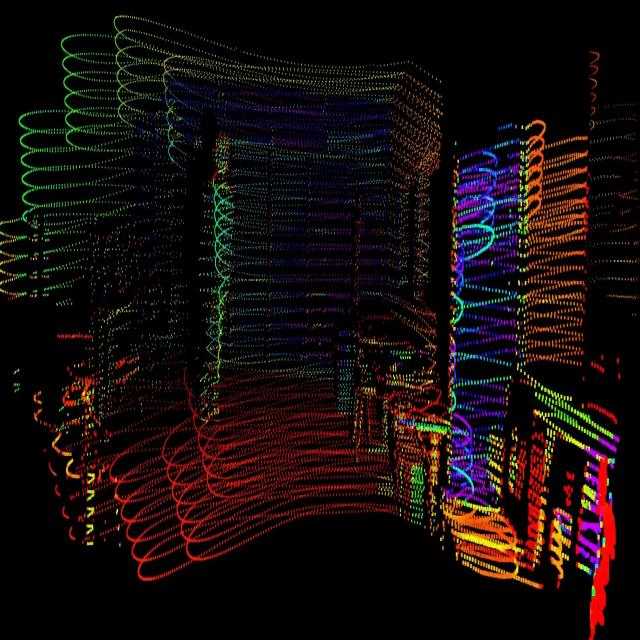human: (185, 116, 238, 432)
